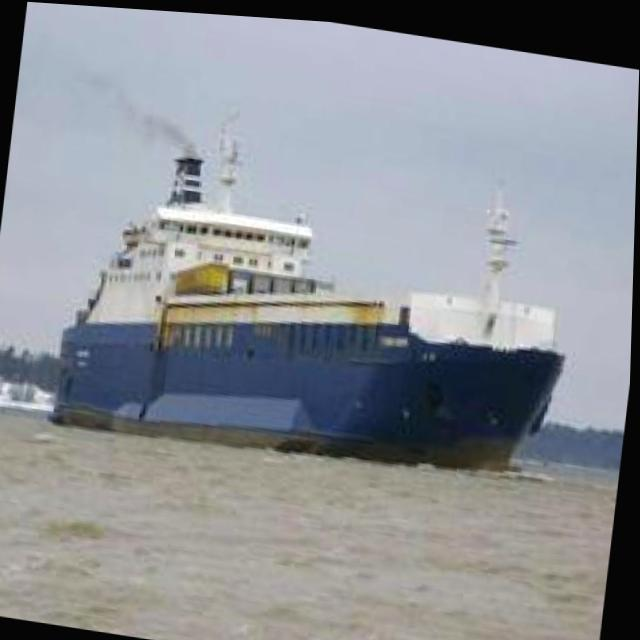ship2: (48, 104, 569, 466)
